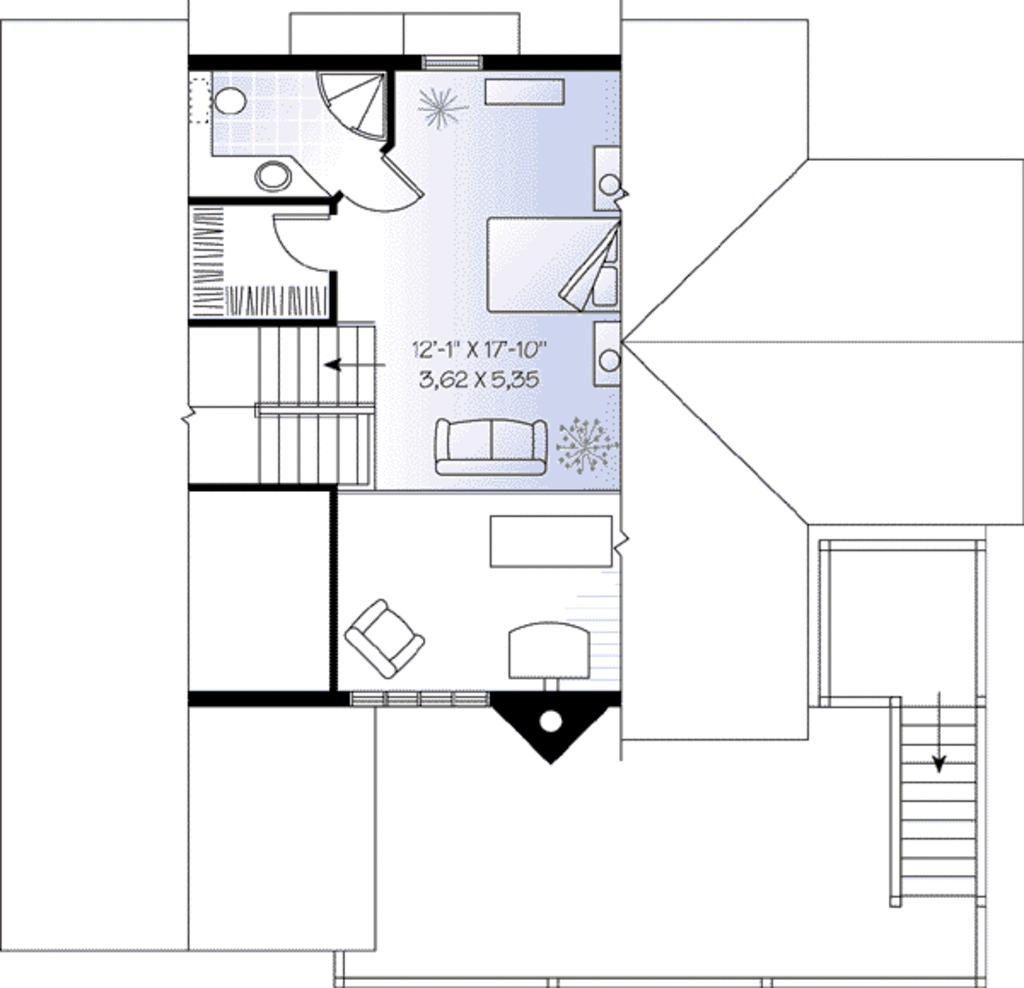bed: (480, 212, 620, 317)
door: (333, 157, 430, 221), (262, 210, 332, 278)
large_sofa: (429, 412, 551, 483)
small_sink: (240, 152, 306, 201)
small_sofa: (347, 599, 421, 680)
stairs: (182, 318, 381, 490), (881, 689, 991, 917)
windows: (340, 687, 490, 716), (419, 52, 489, 75)
